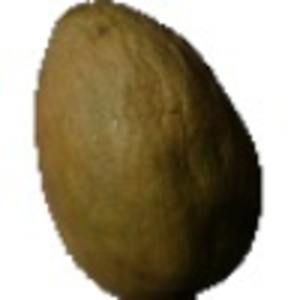mamão: (25, 4, 279, 295)
